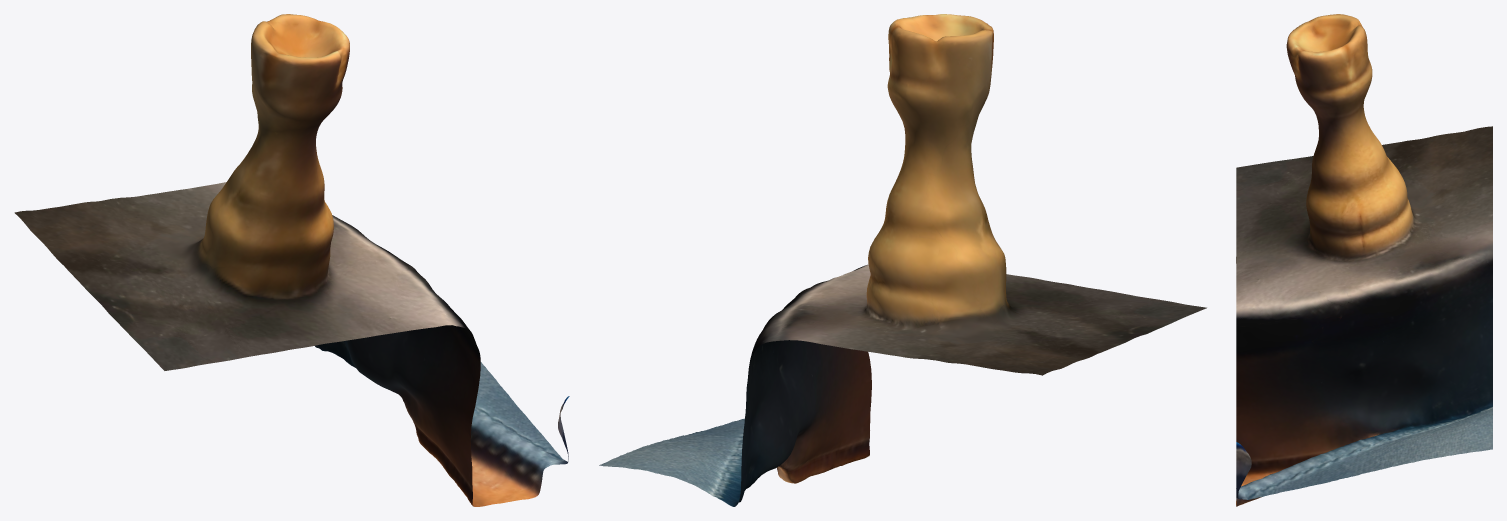
File: 3DModel.obj
3 renders of one model, left to right at view 1: azimuth 30°, elevation 25°; view 2: azimuth 150°, elevation 25°; view 3: azimuth 270°, elevation 25°, orthographic. The views are drawn at different scales.
Visible parts, largest first — view 1: 3DModel; view 2: 3DModel; view 3: 3DModel.
Part boxes in pixels (left/top/right/bottom): 3DModel: left=14, top=14, right=569, bottom=506; 3DModel: left=599, top=14, right=1206, bottom=506; 3DModel: left=1236, top=14, right=1492, bottom=506.
Bounding box in the file's own units: 0.4665 × 0.5207 × 0.3001.
